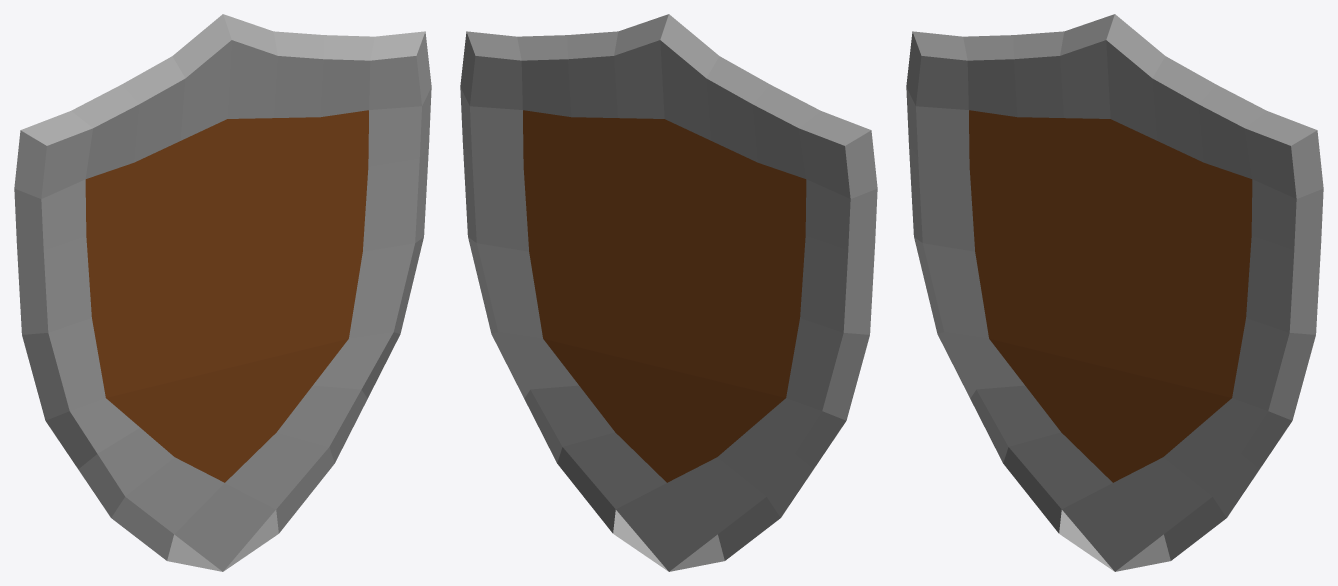
The model's file is Shield.fbx.
3 renders of one model, left to right at view 1: azimuth 30°, elevation 25°; view 2: azimuth 150°, elevation 25°; view 3: azimuth 330°, elevation 25°, orthographic.
Visible parts, largest first — view 1: Cube; view 2: Cube; view 3: Cube.
Part boxes in pixels (<box>): Cube: <box>14,14,431,571</box>; Cube: <box>460,14,877,571</box>; Cube: <box>906,14,1323,571</box>.
Size of the model in its own units: 258 by 329 by 18.68.
